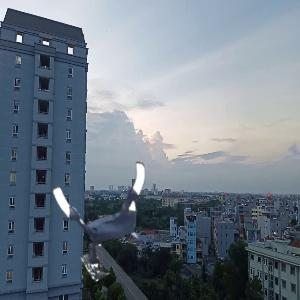drone: (62, 161, 166, 265)
